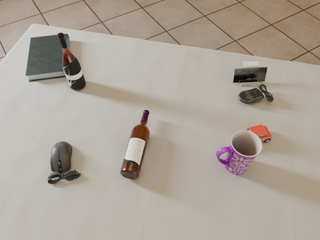book: (26, 34, 69, 82)
bottle: (120, 110, 150, 179), (57, 33, 86, 90)
cup: (216, 130, 262, 174)
mouse: (48, 142, 80, 184), (239, 84, 273, 104)
phone: (233, 67, 267, 83)
toy_car: (247, 125, 272, 142)
